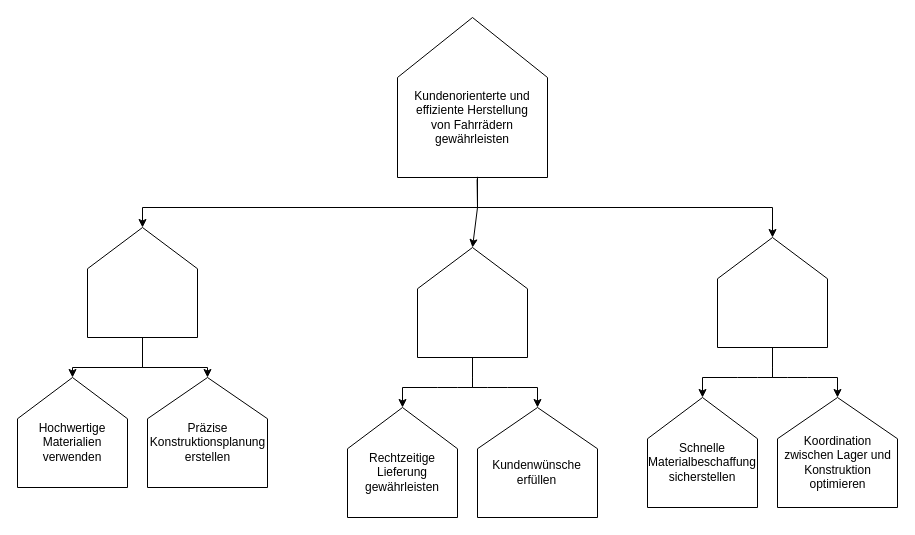
Some shapes in this 915 by 535 pixel diagram are drawn without their labels. The shapes that lost their labels are listed below. From the top down, each one's centre as x and y in pixels, then its label:
At point 142,282: "Hohe Qualität sicherstellen".
At point 472,302: "Kundenzufriedenheit erreichen".
At point 772,292: "Effiziente Herstellung gewährleisten".
